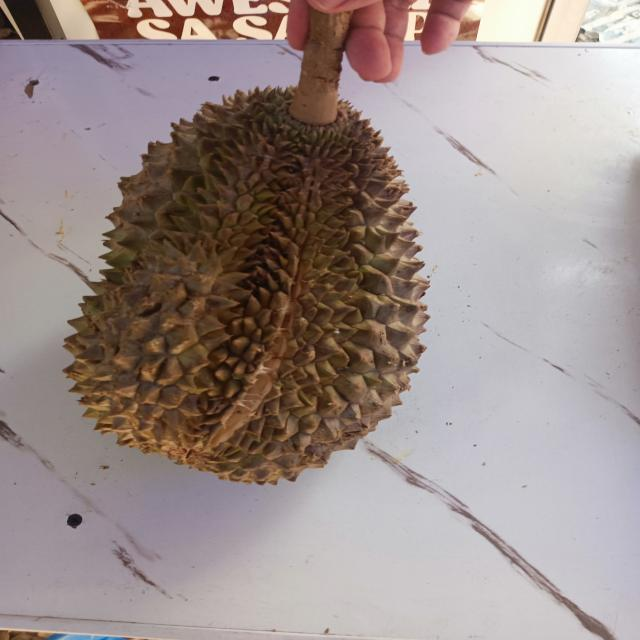mature: (39, 74, 468, 500)
